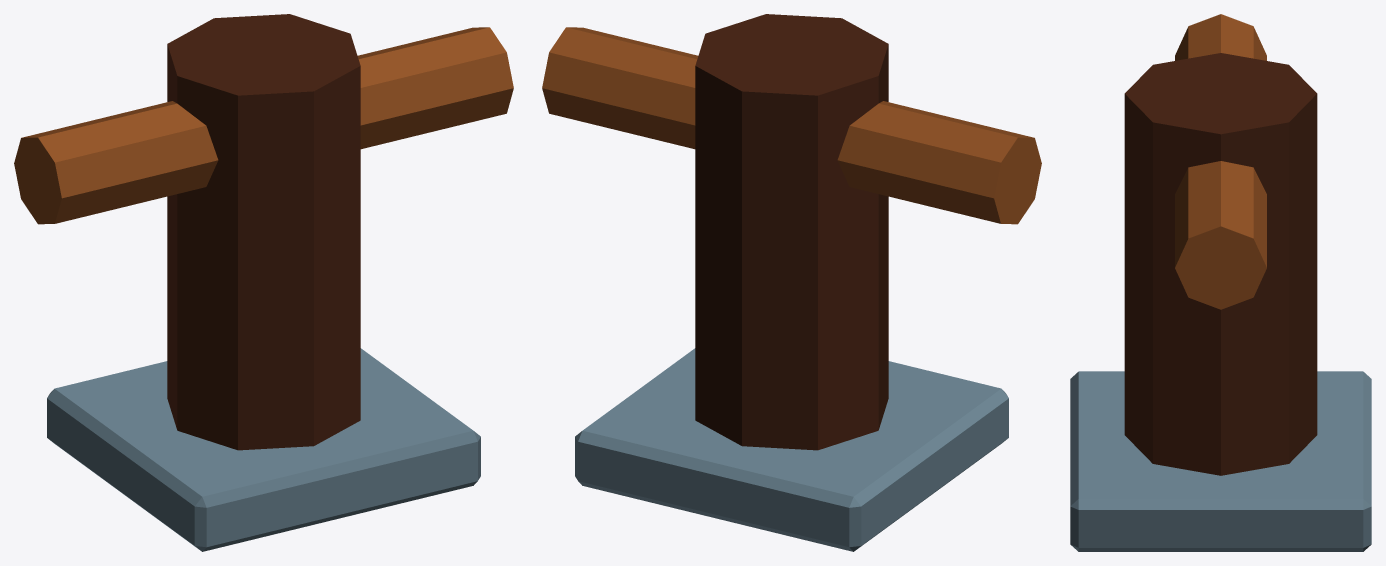
The model's file is D40_Mooring_Bollard.fbx.
3 renders of one model, left to right at view 1: azimuth 30°, elevation 25°; view 2: azimuth 150°, elevation 25°; view 3: azimuth 270°, elevation 25°, orthographic. The views are drawn at different scales.
Visible parts, largest first — view 1: D40_Mooring_Bollard; view 2: D40_Mooring_Bollard; view 3: D40_Mooring_Bollard.
Boxes of the visible parts, x1,y1,x2,y2 form: D40_Mooring_Bollard: (14, 14, 513, 551); D40_Mooring_Bollard: (542, 14, 1041, 551); D40_Mooring_Bollard: (1070, 14, 1371, 551).
Bounding box in the file's own units: 0.6 × 0.52 × 0.36.
3 materials, 3 textured.
